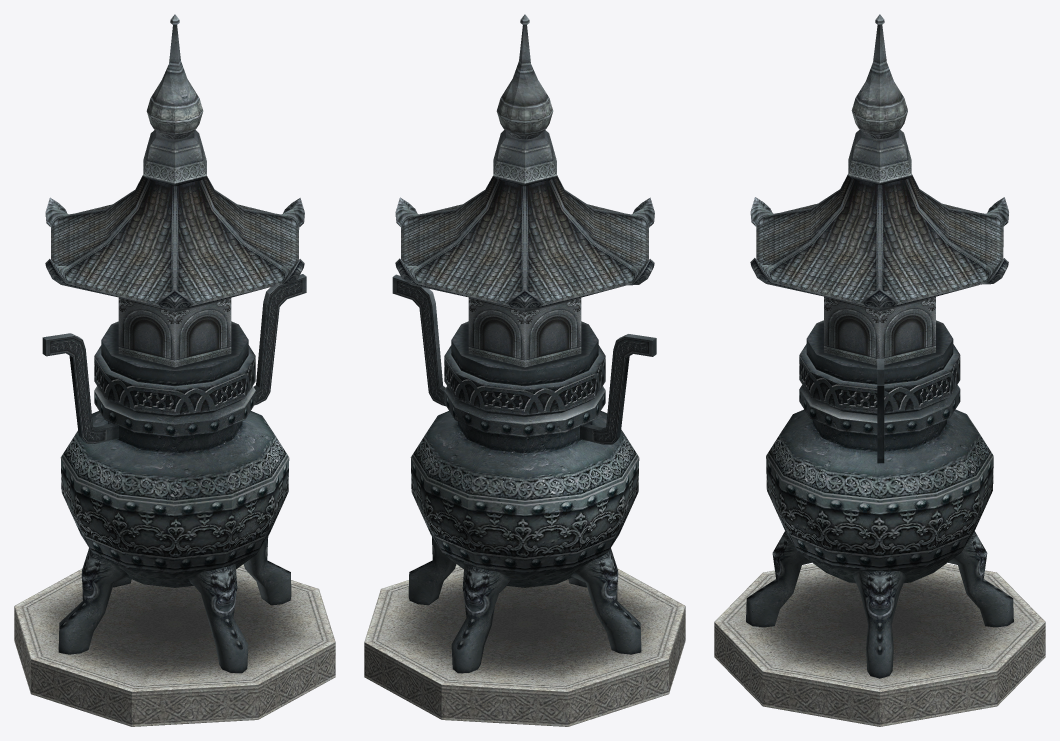
The model's file is ob_brazier.fbx.
3 renders of one model, left to right at view 1: azimuth 30°, elevation 25°; view 2: azimuth 150°, elevation 25°; view 3: azimuth 270°, elevation 25°, orthographic.
Visible parts, largest first — view 1: ob_brazier_02, ob_brazier_01; view 2: ob_brazier_02, ob_brazier_01; view 3: ob_brazier_02, ob_brazier_01.
Boxes of the visible parts, bbox=[...] form: ob_brazier_02: bbox=[14, 14, 335, 726]; ob_brazier_01: bbox=[42, 274, 306, 587]; ob_brazier_02: bbox=[364, 14, 685, 726]; ob_brazier_01: bbox=[392, 274, 656, 587]; ob_brazier_02: bbox=[714, 14, 1045, 726]; ob_brazier_01: bbox=[766, 320, 993, 583].
Size of the model in its own units: 2.06 by 4.42 by 2.06.
